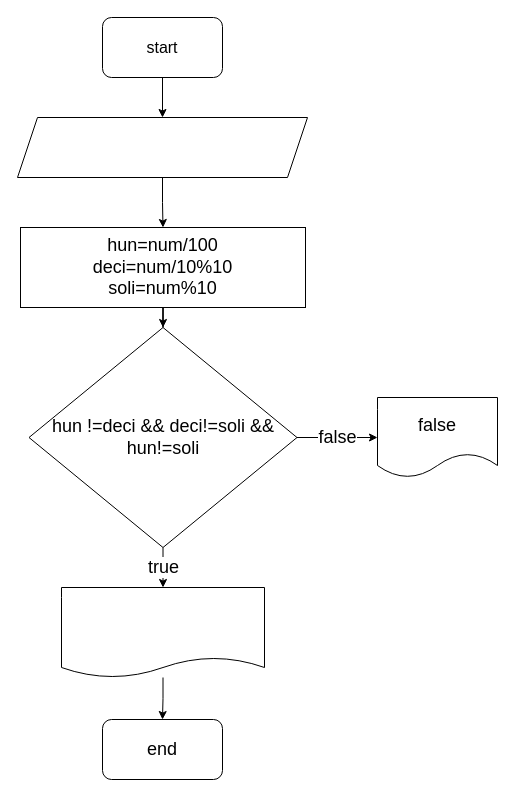
The diagram is 515 pixels wide and 797 high, and some of its shapes have lost their labels. The box of each missing label's shape, as (x1, y1, x2, y2) in pixels:
all number are not equal: (60, 586, 264, 678)
int num,hun,deci,soli: (16, 116, 308, 178)
